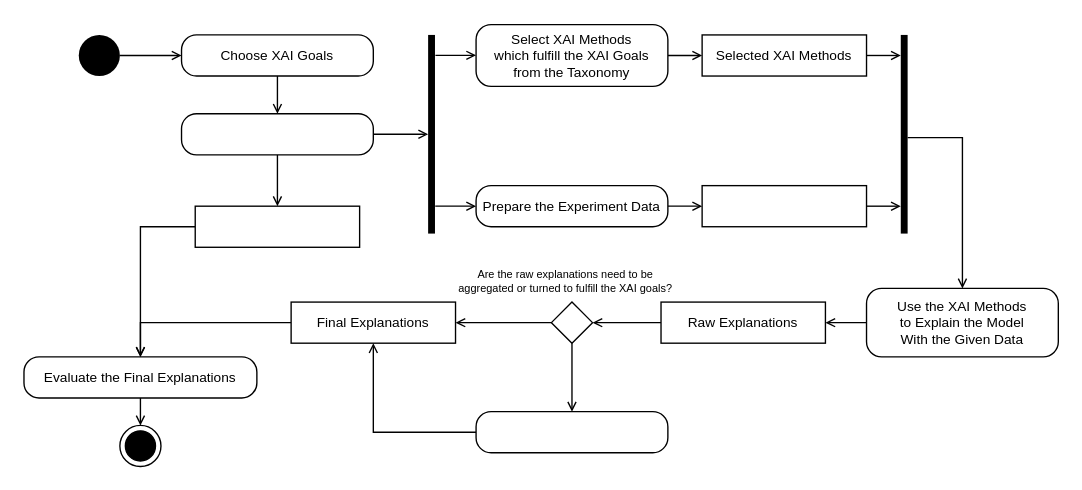
Image size: 1082x490. Some labels were removed from this diagram. Here are the shapes that lost their labels. From the top down, the box of each, then its label:
(180, 112, 373, 155): Define Metrics for XAI Methods
(701, 184, 867, 227): Experiment Data
(194, 205, 360, 247): XAI Method Metrics Definition
(475, 410, 668, 453): Process the Raw Explanations
